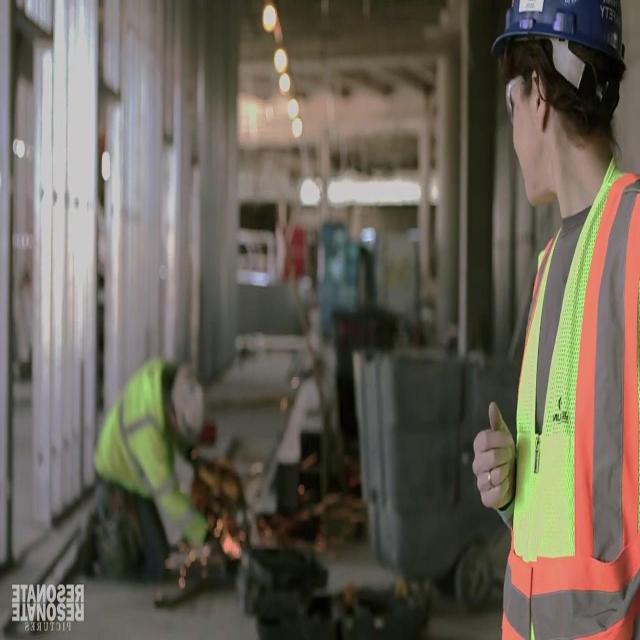Reflective-Jacket: (490, 165, 636, 636), (85, 354, 183, 532)
Safety-Helmet: (484, 0, 638, 97), (164, 361, 208, 451)
